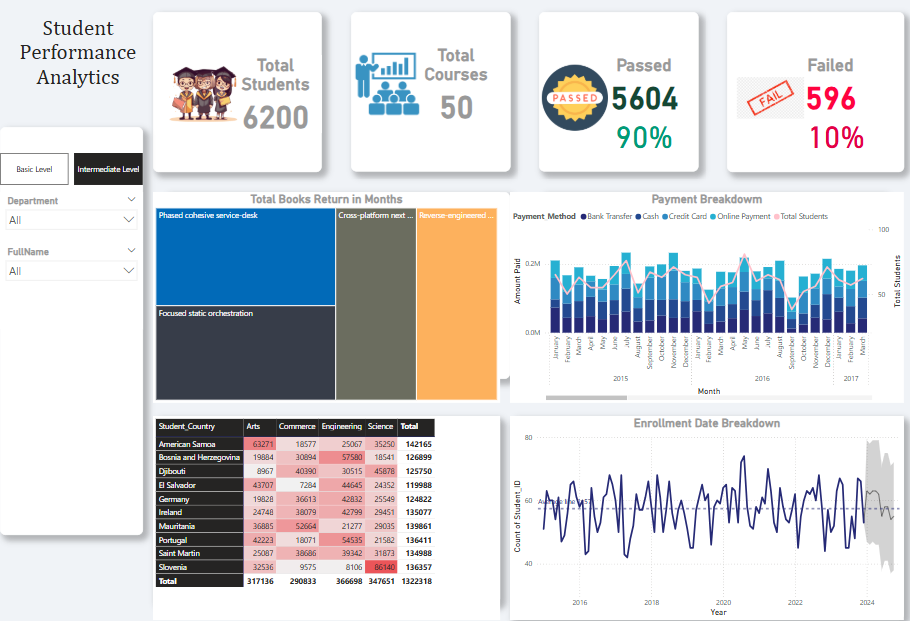

The dashboard page shown, as its layout file describes it:
{"tool":"powerbi","page":{"name":"Intermediate Level","canvas":[1600,1100],"ordinal":1},"visuals":[{"type":"shape","box":[615.8,21.4,279.6,279.6],"z":0},{"type":"shape","box":[268.4,21.1,296.5,280.7],"z":1000},{"type":"shape","box":[945.8,21.4,279.6,279.6],"z":2000},{"type":"shape","box":[1275.4,21.1,310.5,280.7],"z":3000},{"type":"shape","box":[286,336.8,608.8,328.1],"z":4000},{"type":"shape","box":[268.4,729.8,608.8,329.8],"z":5000},{"type":"shape","box":[894.7,729.8,691.2,357.9],"z":6000},{"type":"shape","box":[945.6,336.8,608.8,328.1],"z":7000},{"type":"shape","box":[0,222.8,250.9,715.8],"z":8000},{"type":"textbox","box":[22.8,21.1,228.1,177.2],"z":9000},{"type":"card","title":"Total Students","fields":{"Values":["All Measures.TotalStudents"]},"box":[401.8,96.5,163.2,136.8],"z":10000},{"type":"card","title":"Total Courses","fields":{"Values":["All Measures.TotalCourses"]},"box":[722.8,78.9,154.4,136.8],"z":11000},{"type":"card","title":"Passed","fields":{"Values":["All Measures.TotalPassed"]},"box":[1057.9,96.5,143.9,101.8],"z":12000},{"type":"card","title":"Failed","fields":{"Values":["All Measures.TotalFailed"]},"box":[1384.2,96.5,145.6,101.8],"z":13000},{"type":"card","fields":{"Values":["All Measures.%Passed"]},"box":[1057.9,198.2,143.9,70.2],"z":14000},{"type":"card","fields":{"Values":["All Measures.%Failed"]},"box":[1403.5,198.2,126.3,70.2],"z":15000},{"type":"image","box":[286,96.5,140.4,136.8],"z":16000},{"type":"image","box":[615.8,71.9,128.1,150.9],"z":17000},{"type":"image","box":[945.6,96.5,126.3,150.9],"z":18000},{"type":"image","box":[1287.7,91.2,128.1,161.4],"z":19000},{"type":"treemap","title":"Total Books Return in Months","fields":{"Group":["mydatabase library_data.Book_Title"],"Values":["mydatabase library_data.TotalTimetoReturn"]},"box":[268.4,336.8,608.8,370.2],"z":20000},{"type":"lineStackedColumnComboChart","title":"Payment Breakdowm","fields":{"Category":["mydatabase payments_data.Payment_Date.Variation.Date Hierarchy.Year","mydatabase payments_data.Payment_Date.Variation.Date Hierarchy.Month"],"Y":["mydatabase payments_data.Amount"],"Y2":["mydatabase payments_data.Student_ID"],"Series":["mydatabase payments_data.Payment_Method"]},"box":[894.7,336.8,691.2,370.2],"z":21000},{"type":"pivotTable","fields":{"Rows":["mydatabase student_data.Student_Country"],"Columns":["mydatabase student_data.Department"],"Values":["mydatabase payments_data.Amount"]},"box":[268.4,729.8,608.8,357.9],"z":22000},{"type":"lineChart","title":"Enrollment Date Breakdown","fields":{"Y":["mydatabase student_data.Student_ID"],"Category":["mydatabase student_data.Enrollment_Date.Variation.Date Hierarchy.Year","mydatabase student_data.Enrollment_Date.Variation.Date Hierarchy.Month"]},"box":[894.7,729.8,691.2,357.9],"z":23000},{"type":"slicer","fields":{"Values":["mydatabase student_data.Department"]},"box":[0,336.8,250.9,89.5],"z":23001},{"type":"pageNavigator","box":[0,268.4,250.9,56.1],"z":23002},{"type":"slicer","fields":{"Values":["mydatabase student_data.FullName"]},"box":[0,426.3,250.9,150.9],"z":23003}]}

Visuals, with their boxes on the page's 1600x1100 design canvas (x1, y1, x2, y2). These are canvas units, not pixel positions in the 910x621 screenshot, which may show the page scaled, cropped or inside an application window:
shape: bbox=(616, 21, 895, 301)
shape: bbox=(268, 21, 565, 302)
shape: bbox=(946, 21, 1225, 301)
shape: bbox=(1275, 21, 1586, 302)
shape: bbox=(286, 337, 895, 665)
shape: bbox=(268, 730, 877, 1060)
shape: bbox=(895, 730, 1586, 1088)
shape: bbox=(946, 337, 1554, 665)
shape: bbox=(0, 223, 251, 939)
textbox: bbox=(23, 21, 251, 198)
"Total Students" card: bbox=(402, 96, 565, 233)
"Total Courses" card: bbox=(723, 79, 877, 216)
"Passed" card: bbox=(1058, 96, 1202, 198)
"Failed" card: bbox=(1384, 96, 1530, 198)
card - All Measures.%Passed: bbox=(1058, 198, 1202, 268)
card - All Measures.%Failed: bbox=(1404, 198, 1530, 268)
image: bbox=(286, 96, 426, 233)
image: bbox=(616, 72, 744, 223)
image: bbox=(946, 96, 1072, 247)
image: bbox=(1288, 91, 1416, 253)
"Total Books Return in Months" treemap: bbox=(268, 337, 877, 707)
"Payment Breakdowm" lineStackedColumnComboChart: bbox=(895, 337, 1586, 707)
pivotTable - mydatabase student_data.Student_Country x mydatabase student_data.Department: bbox=(268, 730, 877, 1088)
"Enrollment Date Breakdown" lineChart: bbox=(895, 730, 1586, 1088)
slicer - mydatabase student_data.Department: bbox=(0, 337, 251, 426)
pageNavigator: bbox=(0, 268, 251, 324)
slicer - mydatabase student_data.FullName: bbox=(0, 426, 251, 577)
